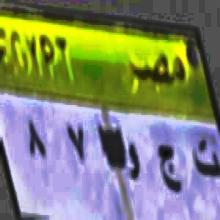7: (66, 115, 86, 175)
8: (25, 113, 48, 170)
jeem: (157, 136, 182, 201)
taa: (189, 134, 220, 185)
waw: (124, 133, 141, 190)
